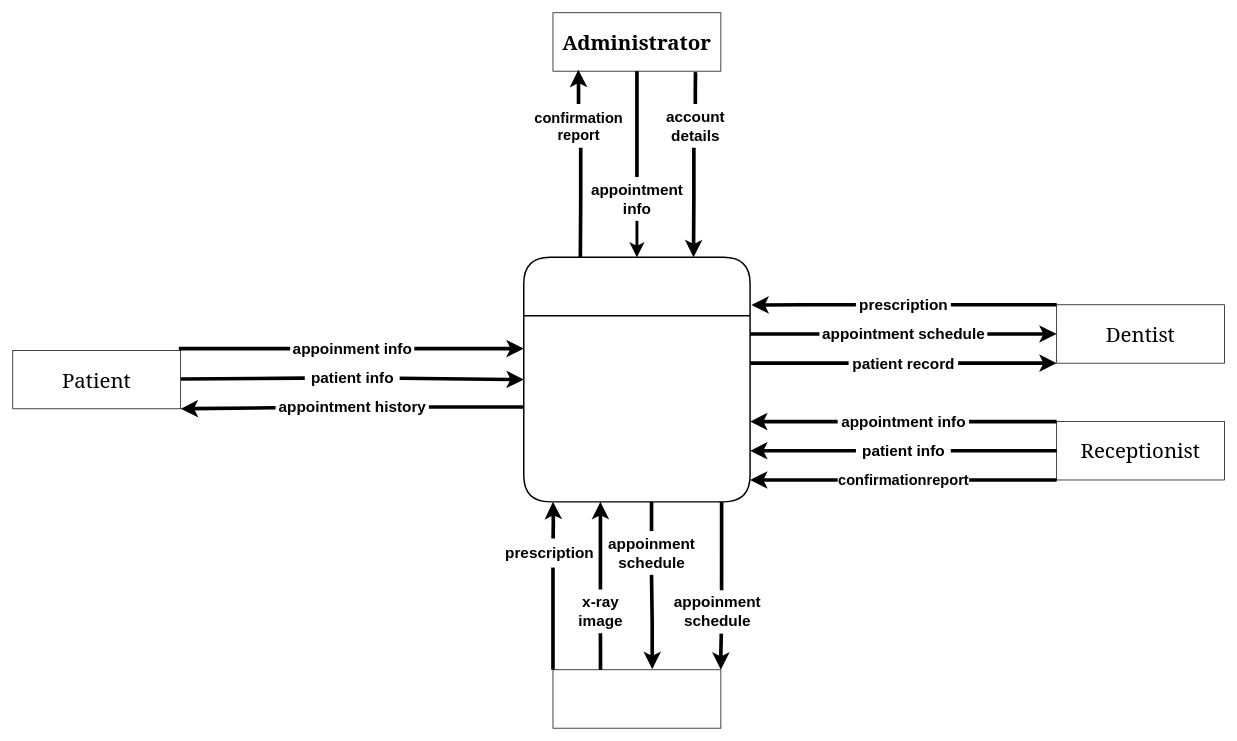
Image size: 1237x741. Some labels were removed from this diagram. The shapes that lost their labels are listed below. From the top down, each one's centre as x and y in pixels, then its label:
At (636,379): "0 Dental Clinic Management System".
At (636,698): "Xray".
